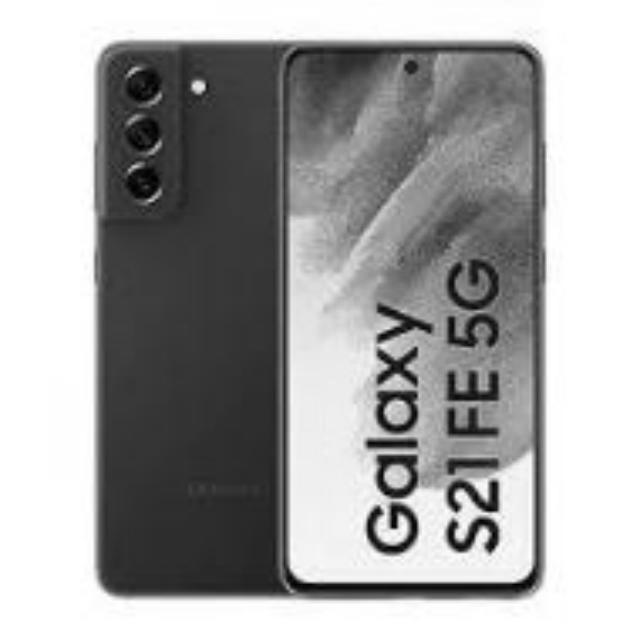fake: (282, 36, 552, 594)
